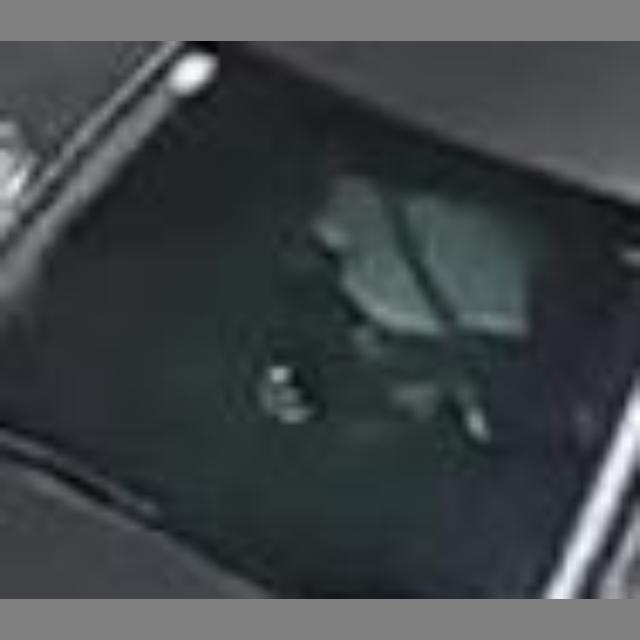pakai: (266, 143, 531, 375)
